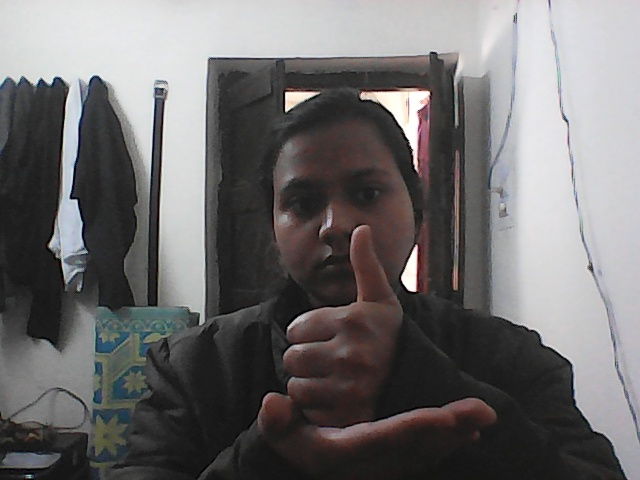Help: (190, 211, 501, 470)
